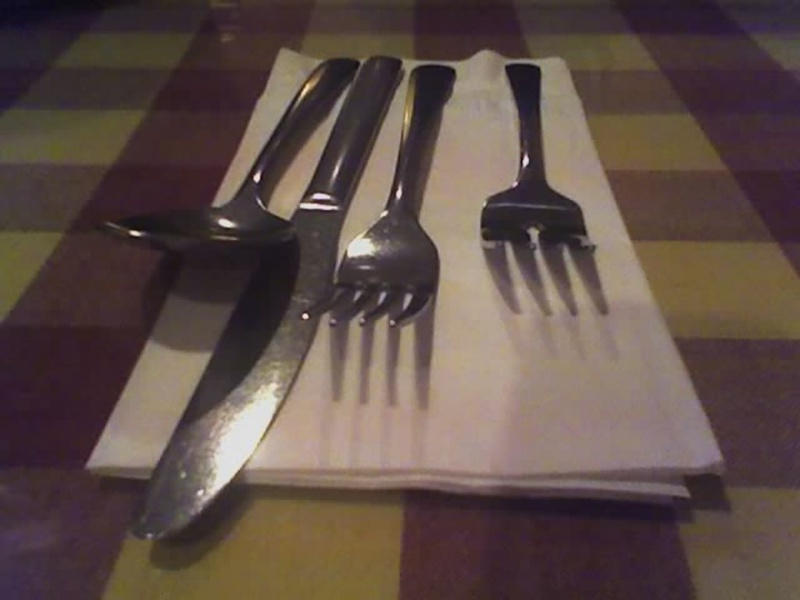knife: (156, 74, 596, 113)
